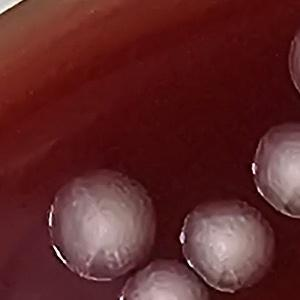colony: (43, 166, 158, 285), (176, 192, 281, 294), (251, 113, 300, 225), (120, 252, 215, 300), (286, 21, 300, 102)
